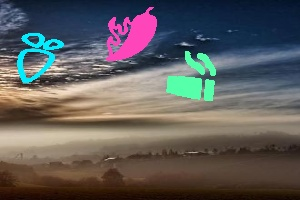树叶: (105, 6, 160, 64)
萝卜: (17, 32, 63, 84)
香烟: (167, 50, 217, 103)
